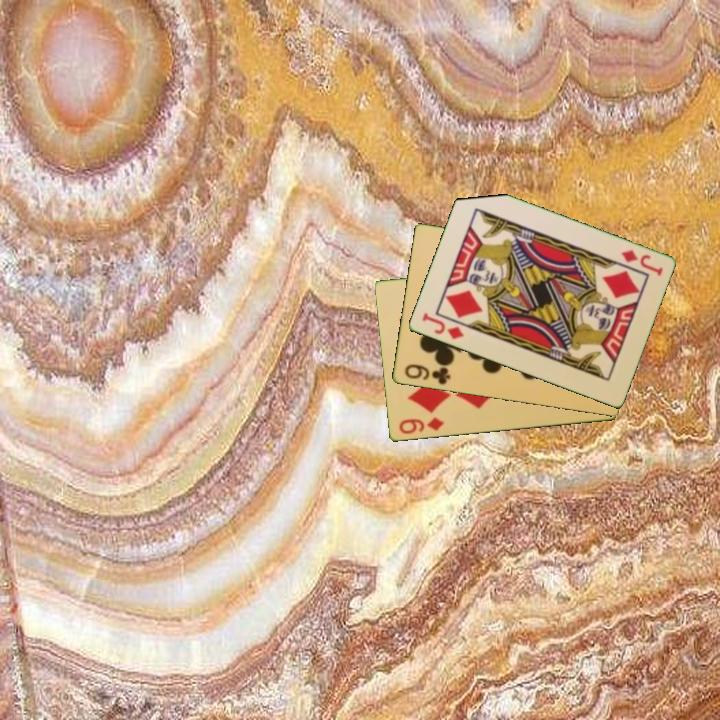9c: (401, 361, 453, 388)
9d: (395, 414, 447, 437)
Jd: (418, 309, 466, 343), (617, 246, 665, 279)
